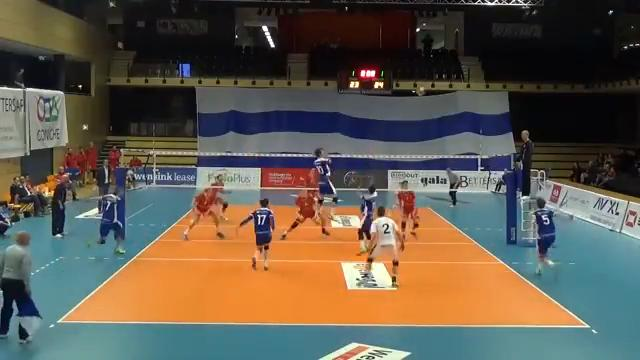Player: (363, 206, 404, 286), (238, 198, 274, 270), (183, 188, 224, 239), (280, 190, 320, 239), (313, 148, 338, 217), (534, 198, 555, 274), (97, 194, 124, 253), (358, 185, 376, 254), (397, 180, 418, 236), (211, 174, 228, 220), (306, 168, 317, 198)
